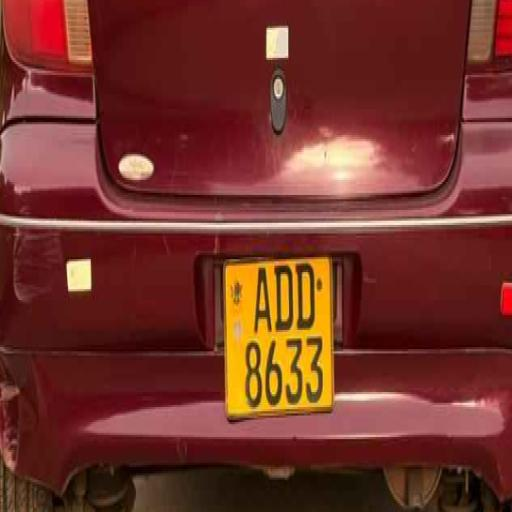number-plates: (226, 264, 329, 408)
